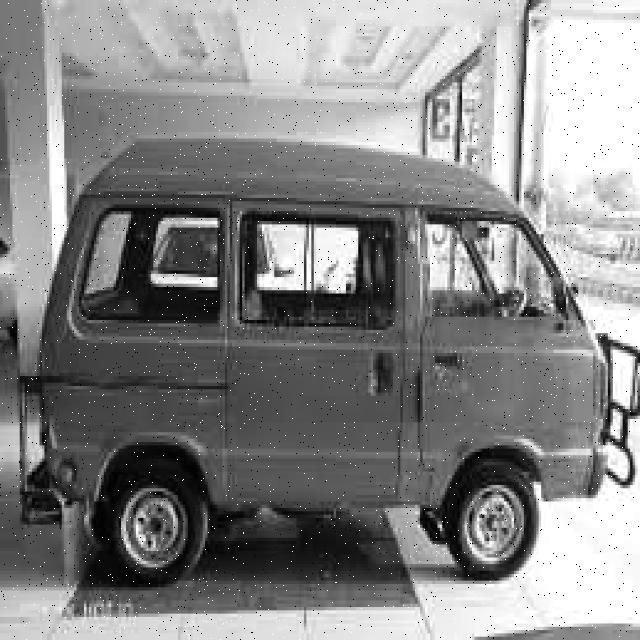Van: (37, 139, 640, 587)
